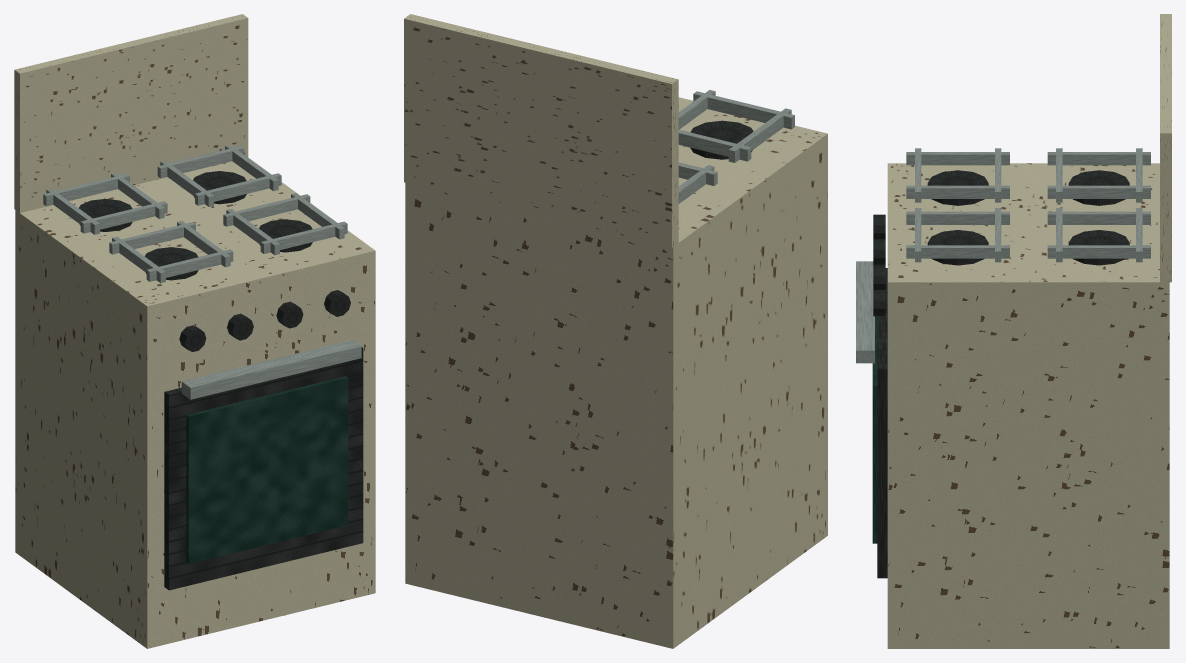
Rendered from CIS_GasStove.glb.
3 renders of one model, left to right at view 1: azimuth 30°, elevation 25°; view 2: azimuth 150°, elevation 25°; view 3: azimuth 270°, elevation 25°, orthographic. The views are drawn at different scales.
Parts seen in each view (by area): view 1: CIS_GasStove; view 2: CIS_GasStove; view 3: CIS_GasStove.
Part boxes in pixels (<box>): CIS_GasStove: <box>14,14,375,648</box>; CIS_GasStove: <box>404,14,827,648</box>; CIS_GasStove: <box>856,14,1171,648</box>.
Bounding box in the file's own units: 0.6 × 1.21 × 0.6715.
Materials: 4 (4 with a texture image).
